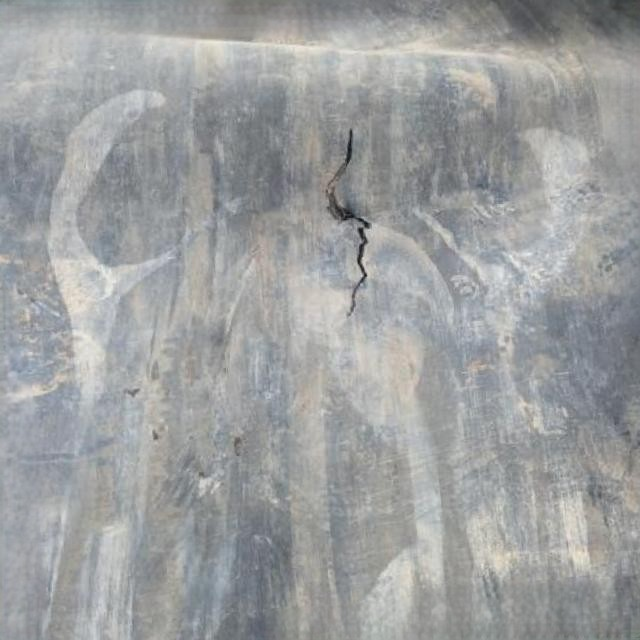Tear: (319, 126, 379, 322)
